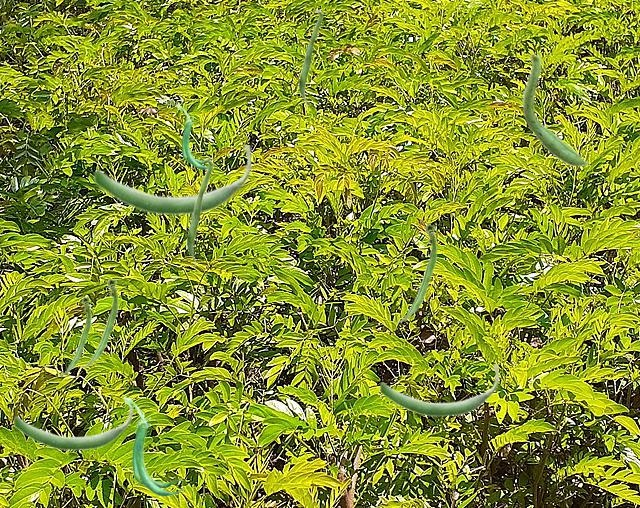french_bean: (93, 145, 251, 215), (522, 52, 588, 166), (379, 364, 498, 416), (13, 398, 132, 450), (123, 396, 183, 495), (395, 223, 436, 322), (80, 278, 117, 367), (186, 158, 212, 267), (58, 296, 90, 375), (176, 104, 214, 168), (298, 9, 322, 108)
